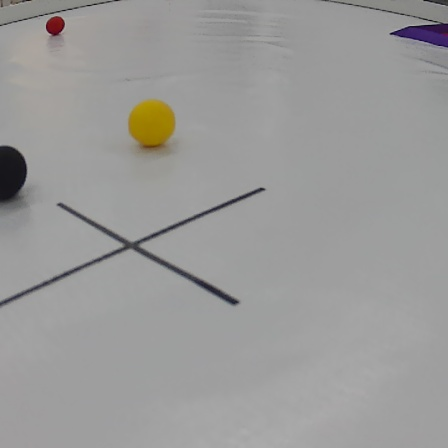black: (0, 139, 25, 205)
red: (45, 15, 66, 34)
yellow: (127, 98, 177, 148)
